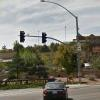Traffic light: (12, 22, 70, 55)
